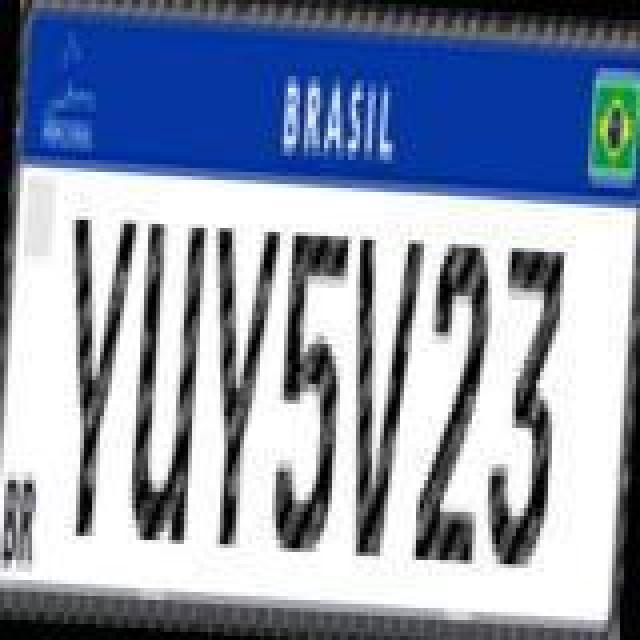2: (414, 234, 498, 566)
3: (480, 244, 568, 572)
5: (270, 226, 354, 558)
U: (126, 220, 210, 548)
V: (338, 230, 430, 562)
Y: (196, 222, 284, 554), (52, 212, 140, 540)
